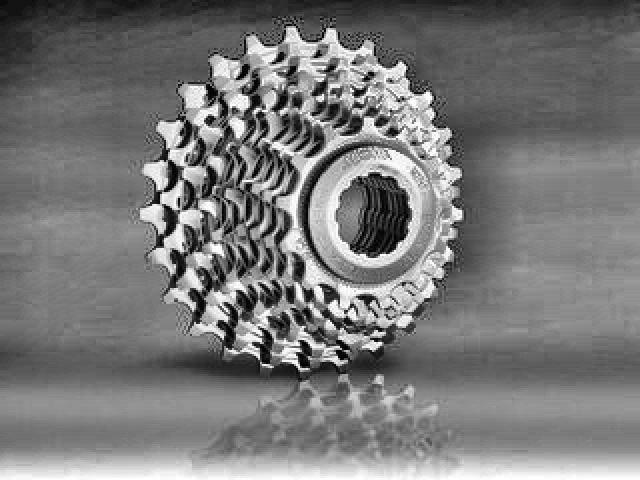cassette: (138, 27, 464, 378)
